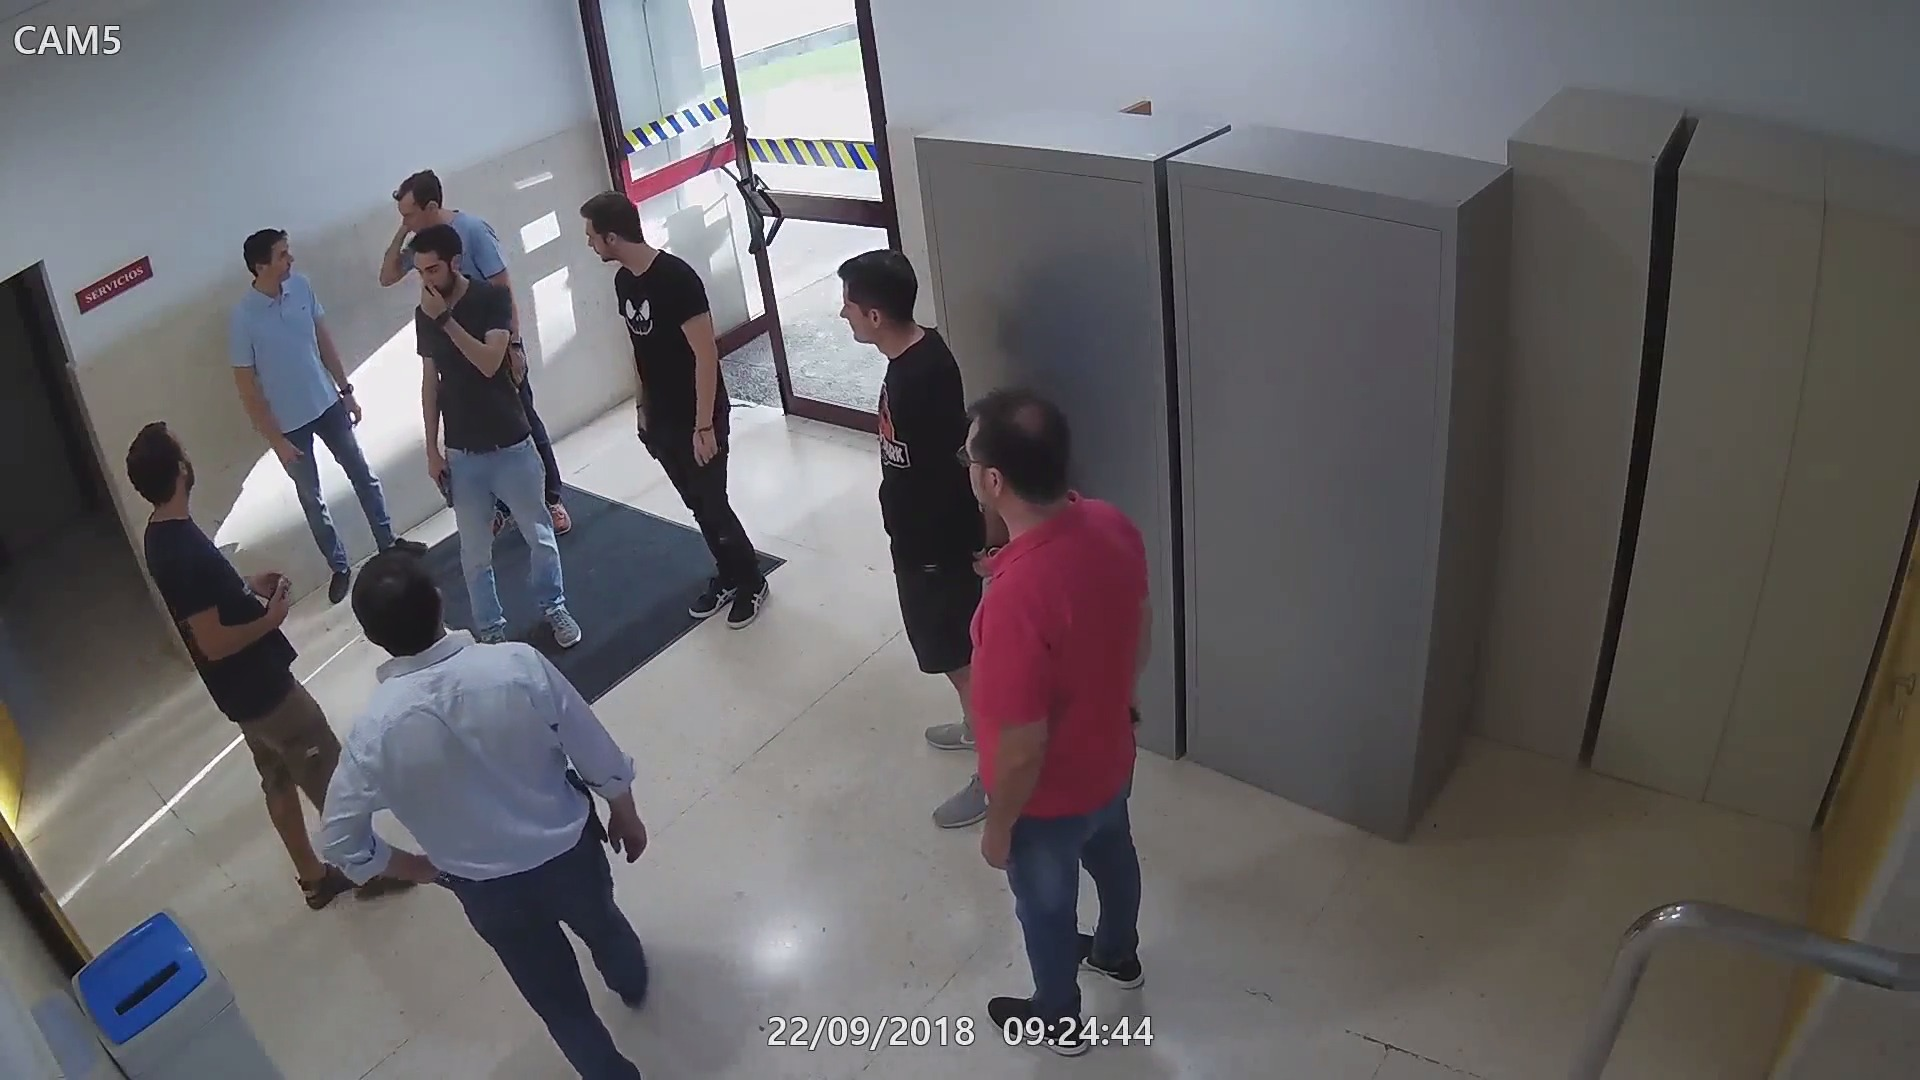Handgun: (564, 769, 608, 837), (419, 450, 458, 516), (261, 571, 291, 640), (630, 407, 655, 462)
